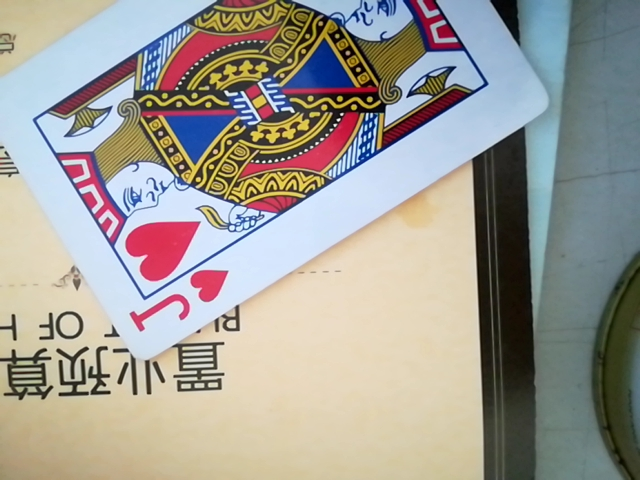hx j: (5, 1, 562, 365)
